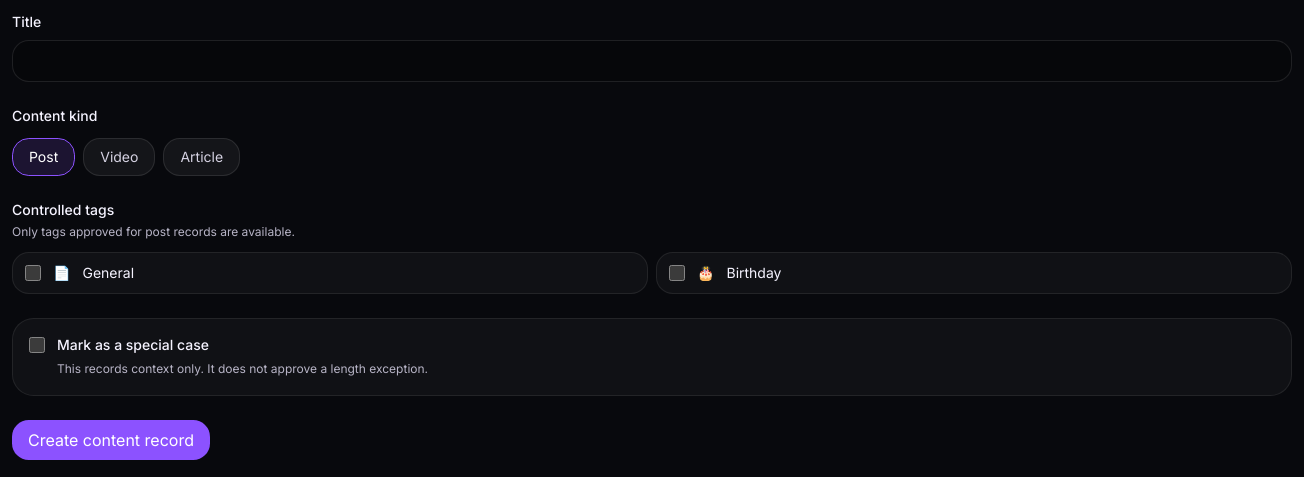
Test case: Phase 03 content form › shows only controlled tags for the selected content kind
The image size is (1304, 477).
Expected: the checkbox labelled "📄 General" is shown, 25,265 -> 41,281
Expected: the checkbox labelled "Reel" is not shown
Click the radio button labelled "Video" at x=119, y=157, box 83,138 -> 155,176
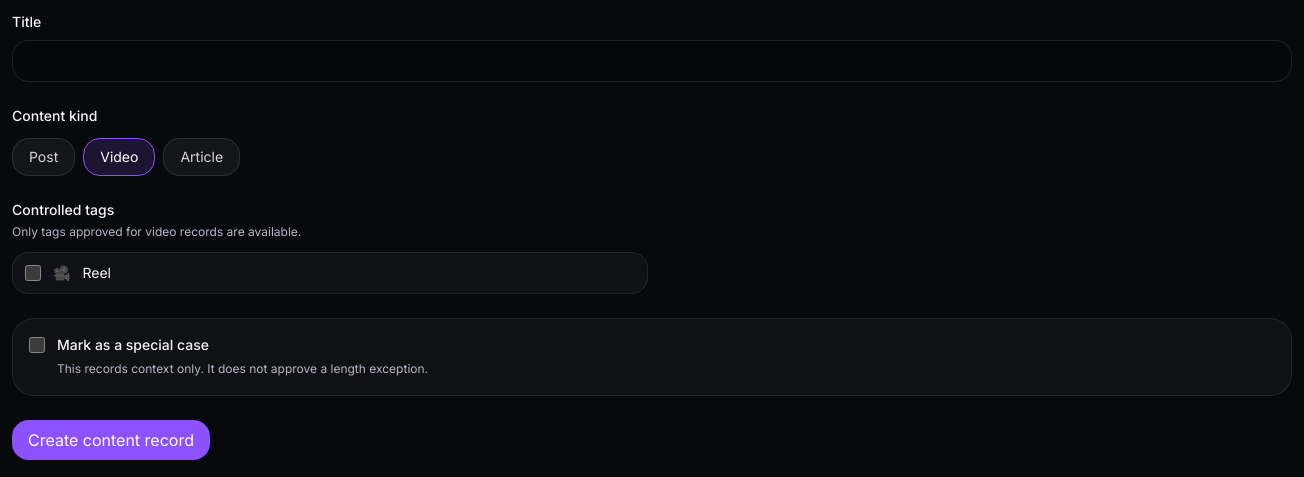
Expected: the checkbox labelled "🎥 Reel" is shown, 25,265 -> 41,281
Expected: the text "Birthday" is gone
